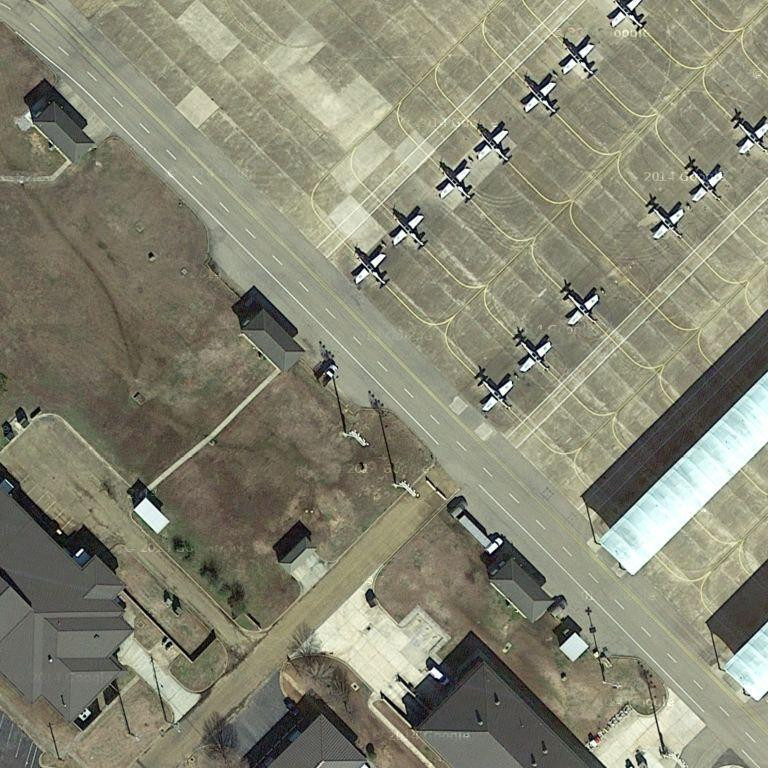plane: (557, 34, 604, 83), (471, 122, 520, 168), (518, 74, 565, 121), (349, 243, 394, 291), (683, 159, 728, 205), (512, 329, 557, 375), (387, 209, 432, 254), (643, 198, 689, 242), (434, 162, 479, 206), (560, 285, 605, 327), (731, 111, 768, 159), (476, 373, 517, 415), (608, 3, 650, 38)
